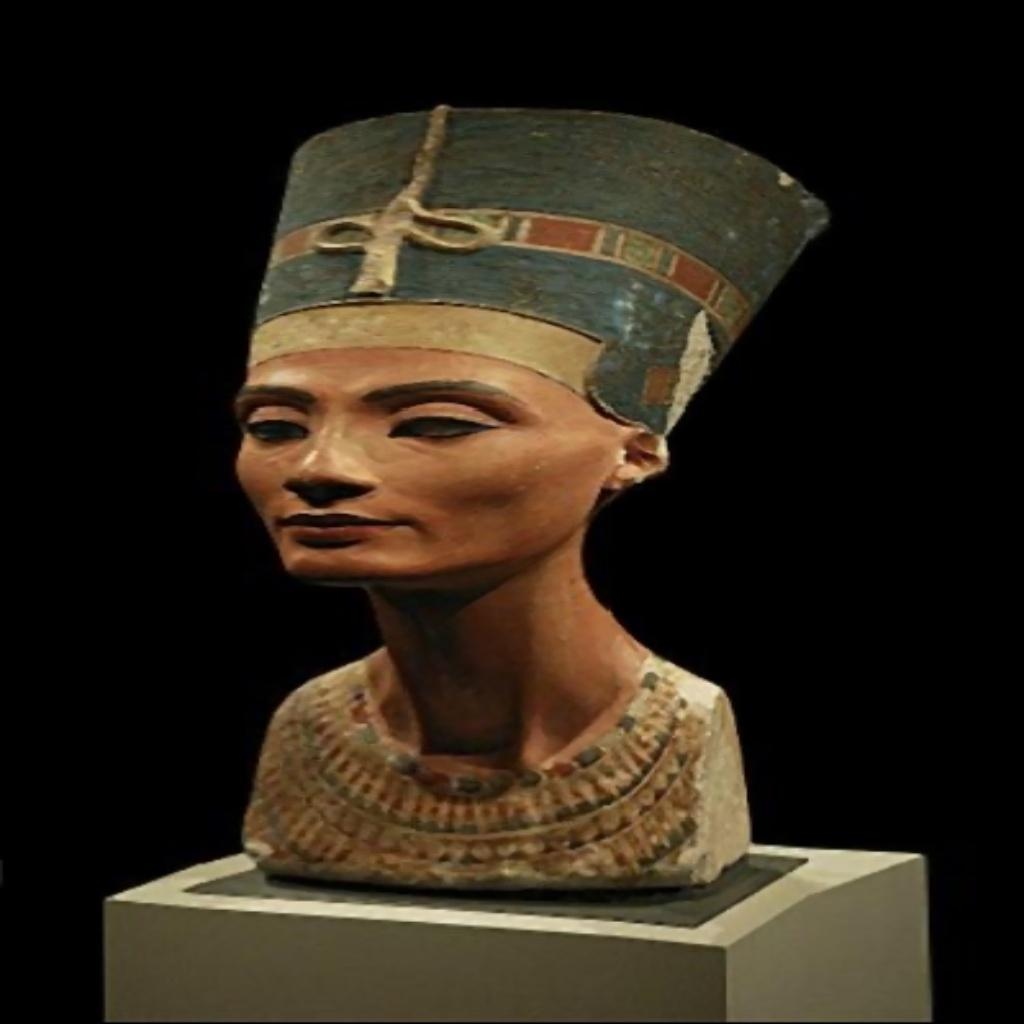Nefertiti: (236, 102, 832, 896)
